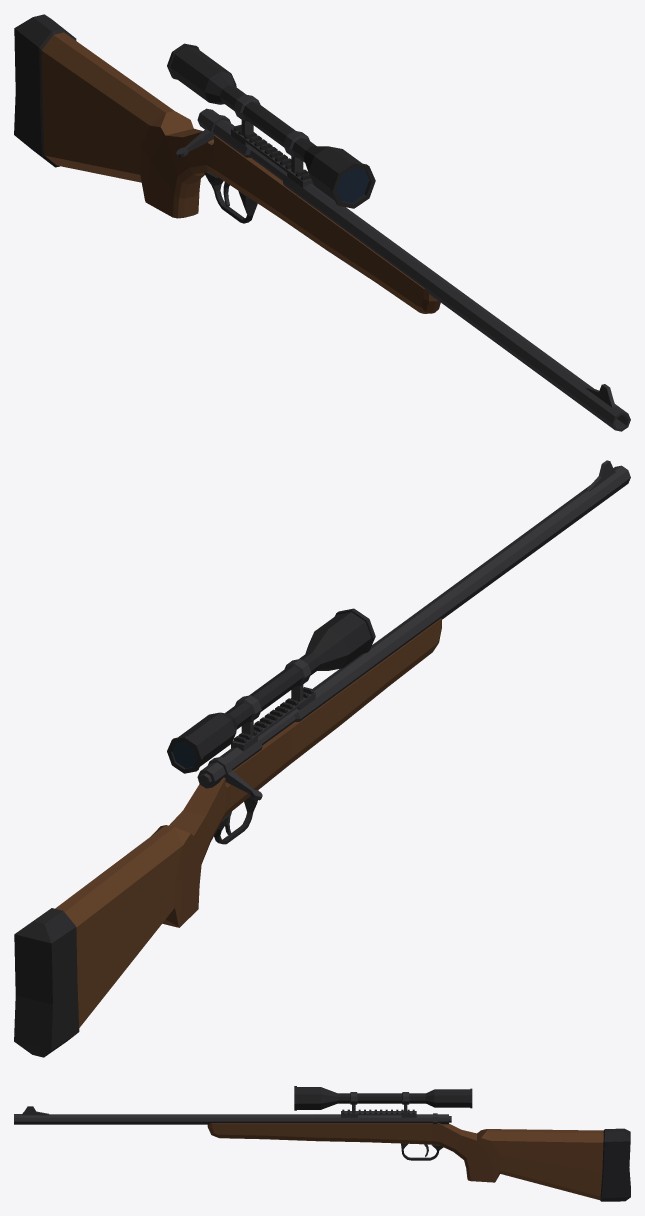
File: rolling_block.glb
3 views of the same model, one above another, from view 1: azimuth 30°, elevation 25°; view 2: azimuth 150°, elevation 25°; view 3: azimuth 270°, elevation 25° (orthographic). The views are drawn at different scales.
Parts seen in each view (by area): view 1: SniperRifle_1; view 2: SniperRifle_1; view 3: SniperRifle_1.
Boxes of the visible parts, x1=… form: SniperRifle_1: x1=14, y1=14, x2=630, y2=431; SniperRifle_1: x1=14, y1=460, x2=630, y2=1057; SniperRifle_1: x1=14, y1=1086, x2=630, y2=1201.
Bounding box in the file's own units: 0.0674 × 0.2177 × 1.07.
